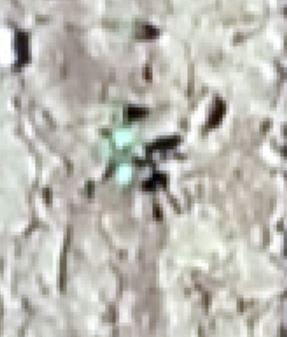cotton: (112, 130, 133, 149), (119, 163, 133, 186), (113, 102, 126, 122)
